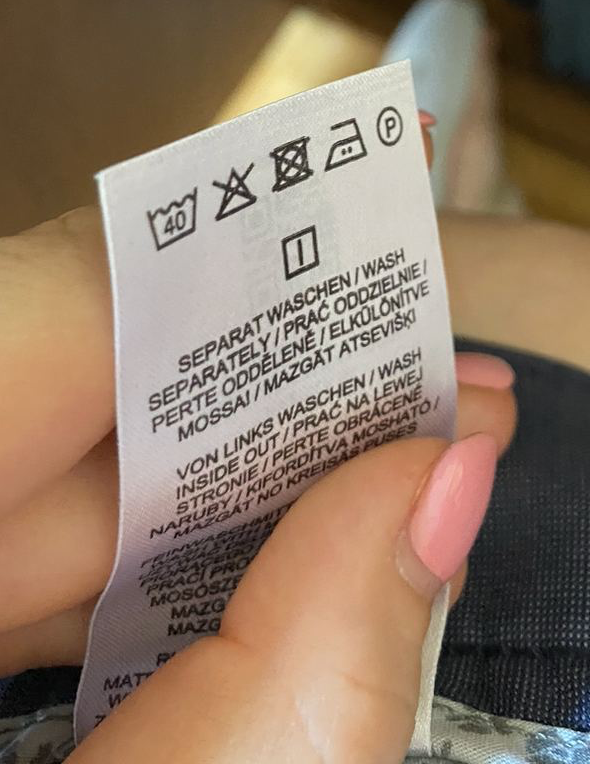do_not_bleach: (210, 155, 262, 223)
do_not_tumble_drying: (264, 126, 317, 193)
dry_clean_tetrachloroethylene_pce_only: (375, 101, 406, 147)
ironing_at_med_temp: (322, 112, 369, 174)
line_dry: (277, 221, 323, 278)
wash_at_or_below_40: (146, 180, 201, 252)
